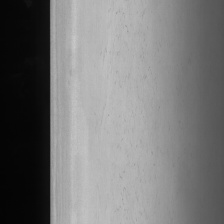silk_spot: (103, 0, 156, 211)
